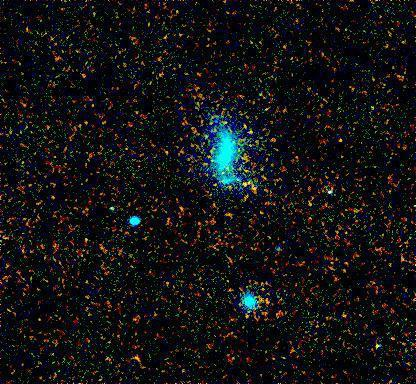star: (255, 124, 285, 154)
